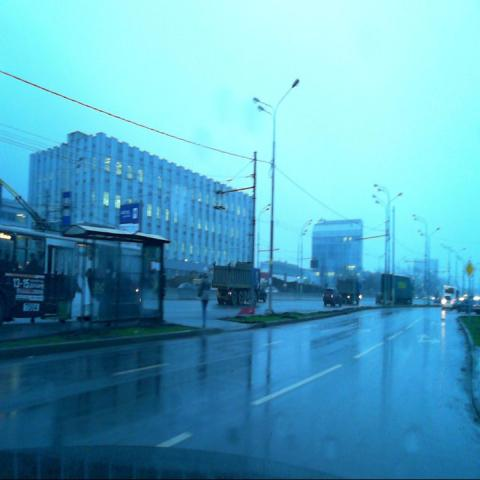2_1: (464, 260, 474, 279)
5_16: (61, 192, 71, 226)
